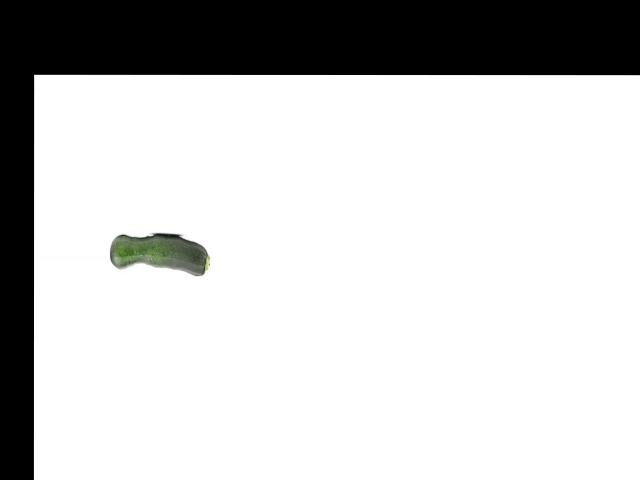cucumber: (110, 234, 210, 276)
